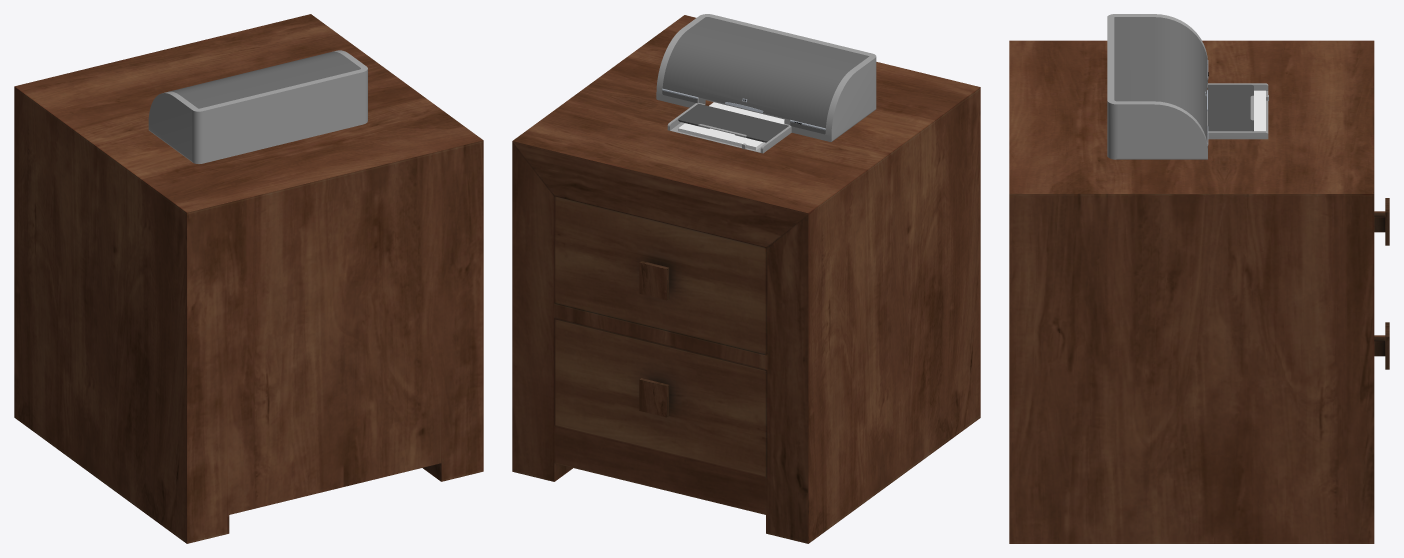
The model's file is Printer.glb.
The picture shows the model from 3 angles, left to right: view 1: azimuth 30°, elevation 25°; view 2: azimuth 150°, elevation 25°; view 3: azimuth 270°, elevation 25°; orthographic projection. The views are drawn at different scales.
Parts seen in each view (by area): view 1: Bollard, ID78, ID100, ID108; view 2: Bollard, ID100, ID108, ID78, ID92, ID140; view 3: Bollard, ID100, ID78, ID108, ID92, ID140.
Boxes of the visible parts, x1=… form: Bollard: x1=14, y1=14, x2=483, y2=543; ID78: x1=148, y1=69, x2=367, y2=163; ID100: x1=169, y1=51, x2=360, y2=108; ID108: x1=164, y1=50, x2=367, y2=111; Bollard: x1=512, y1=15, x2=980, y2=543; ID100: x1=662, y1=17, x2=869, y2=134; ID108: x1=656, y1=14, x2=876, y2=153; ID78: x1=831, y1=57, x2=876, y2=141; ID92: x1=678, y1=103, x2=788, y2=142; ID140: x1=678, y1=102, x2=784, y2=146; Bollard: x1=1009, y1=40, x2=1389, y2=543; ID100: x1=1114, y1=17, x2=1207, y2=147; ID78: x1=1107, y1=101, x2=1207, y2=159; ID108: x1=1107, y1=14, x2=1268, y2=150; ID92: x1=1208, y1=84, x2=1253, y2=131; ID140: x1=1207, y1=90, x2=1265, y2=130.
Bounding box in the file's own units: 0.6138 × 0.7583 × 0.645.
Materials: 9 (1 with a texture image).
